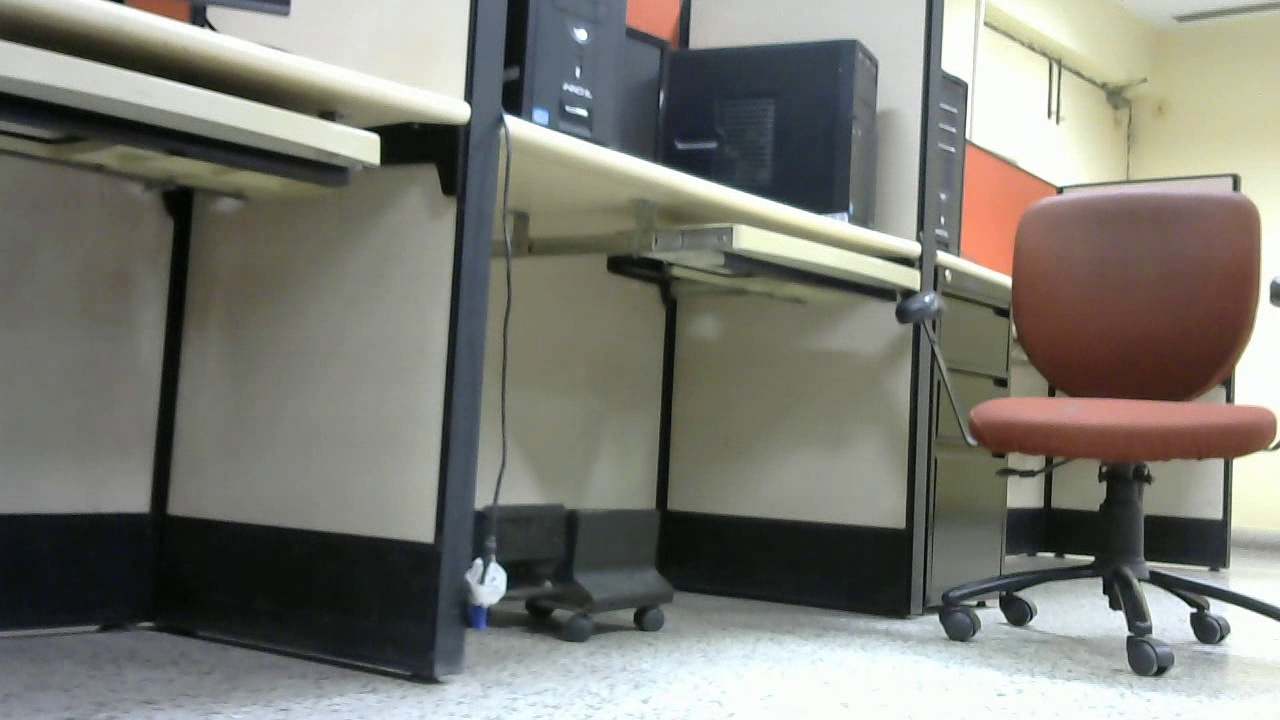chair: (894, 190, 1280, 678)
